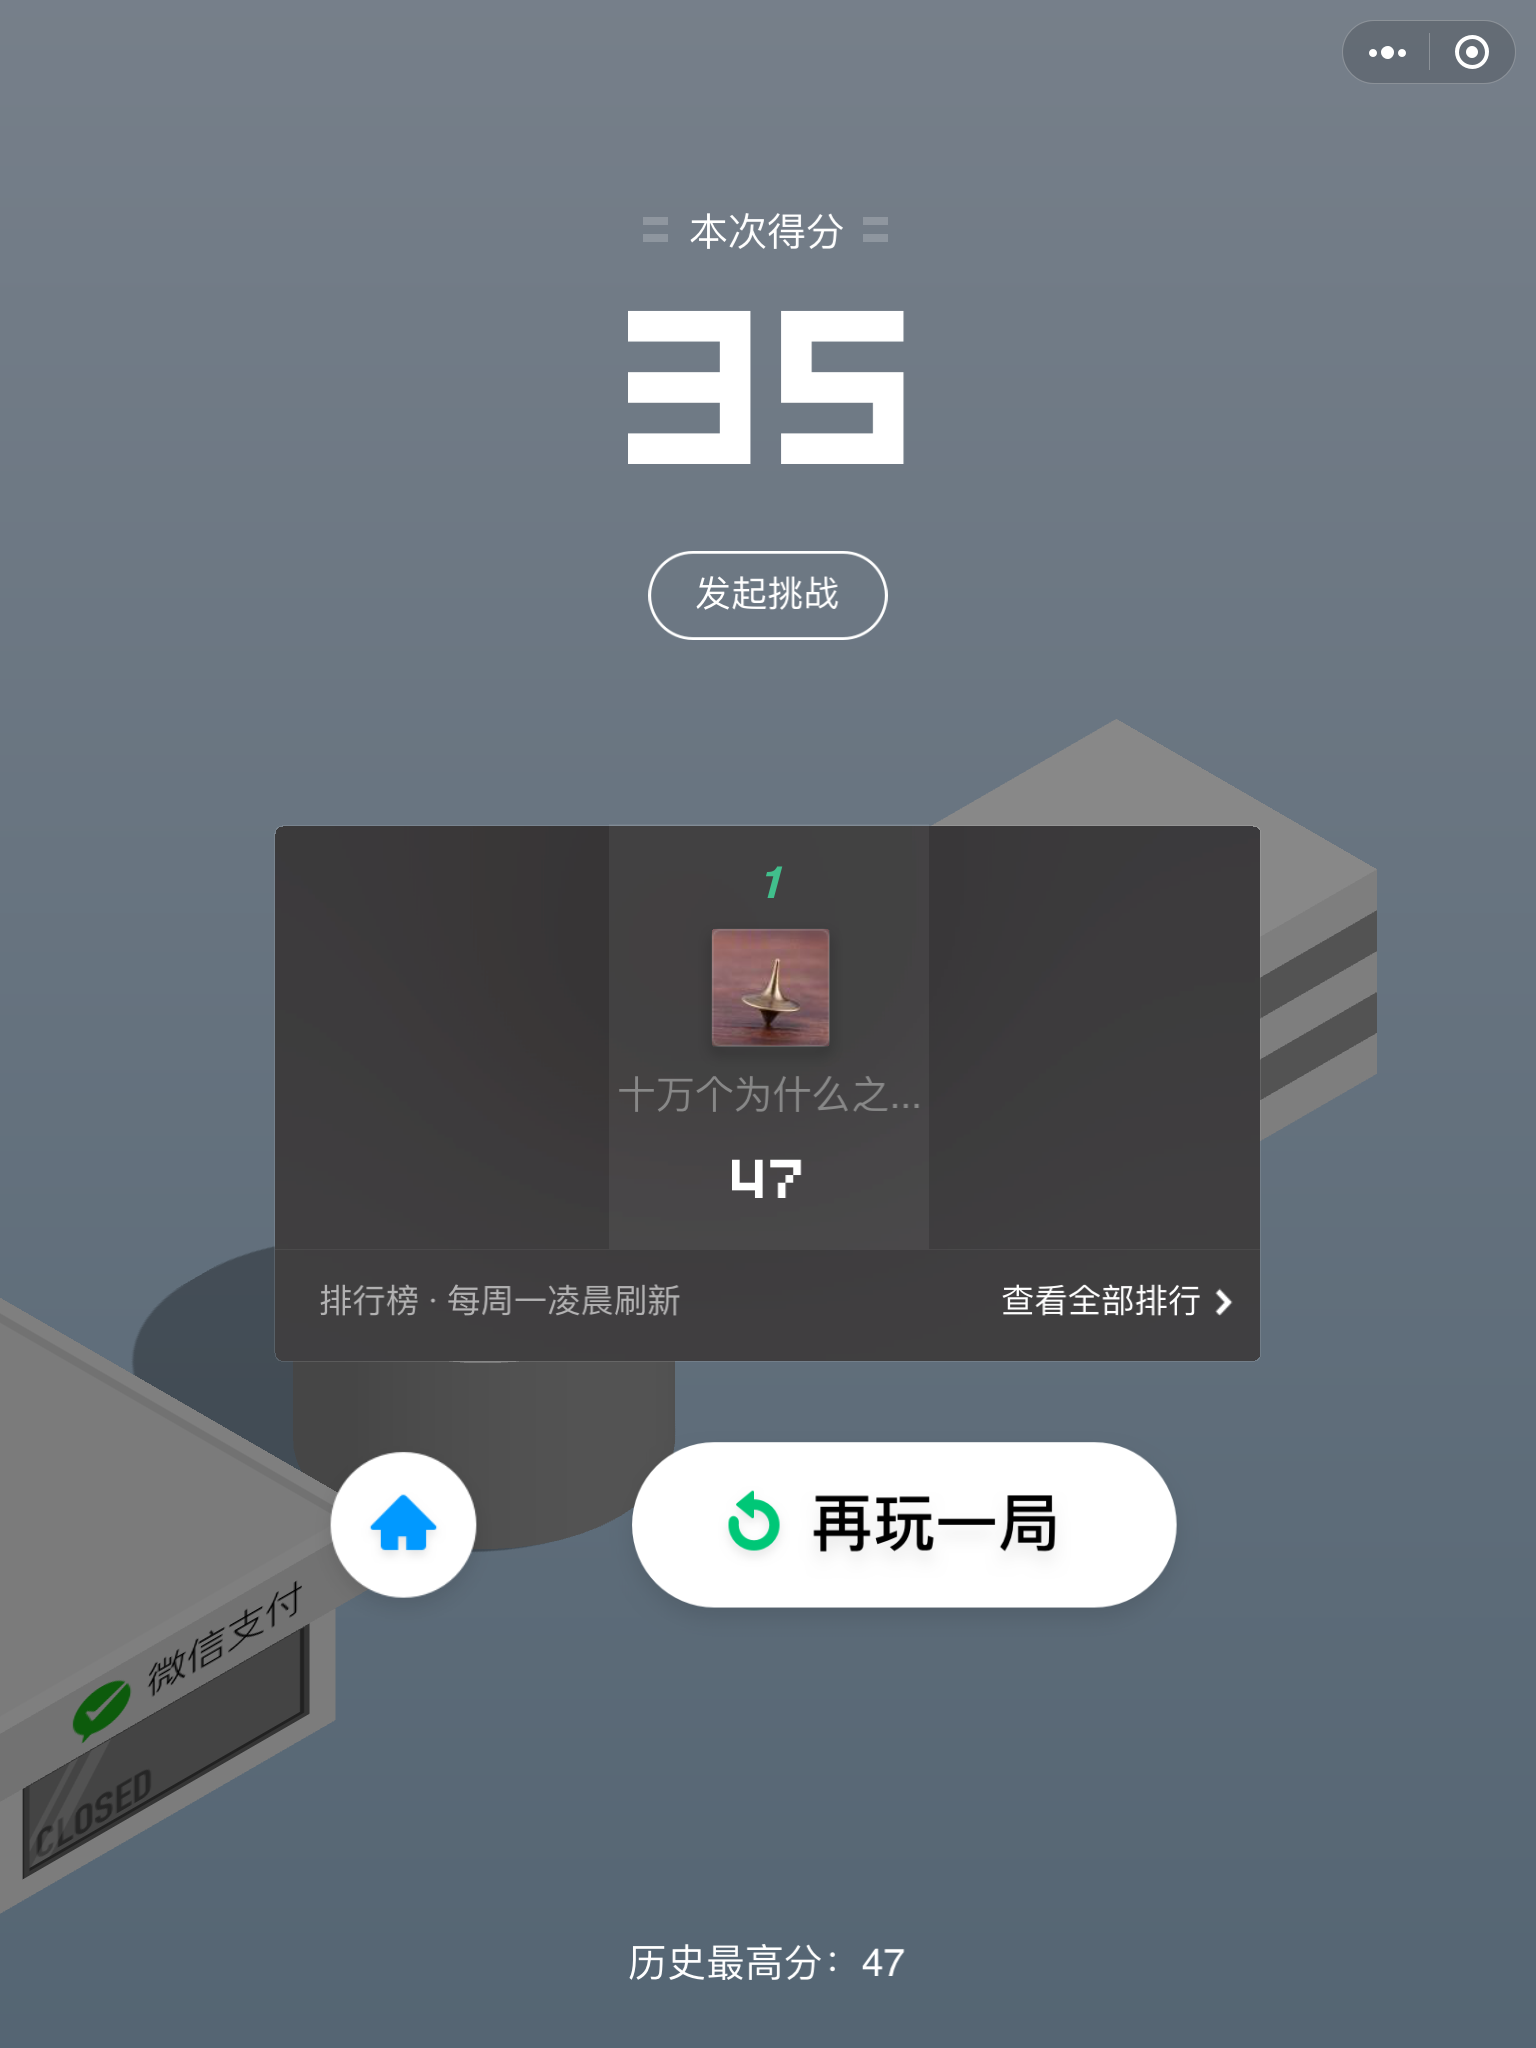f: (2, 1271, 360, 1916), (925, 711, 1384, 1147)
s: (628, 1429, 1196, 1634)
